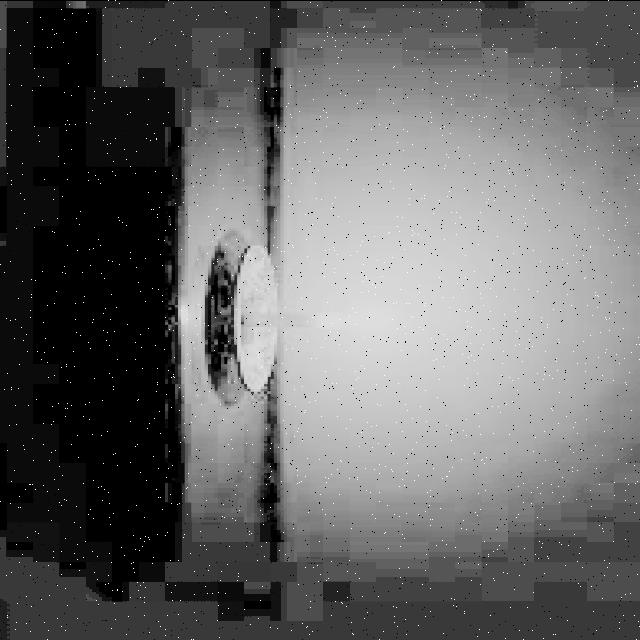api: (335, 298, 407, 338)
